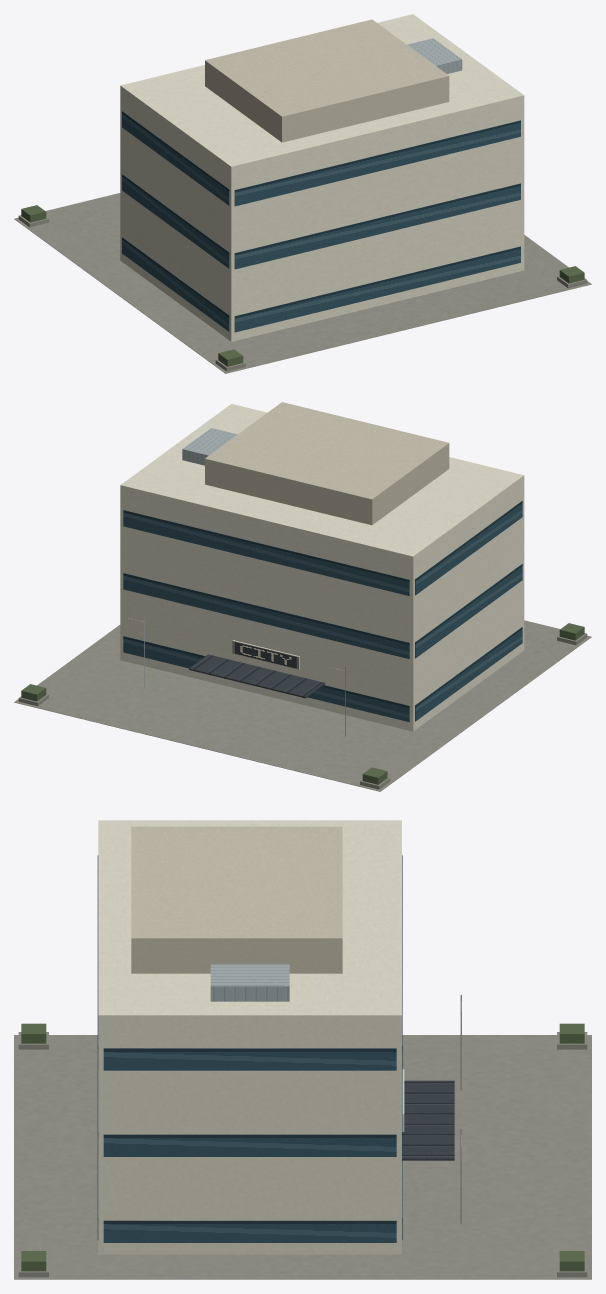
The model's file is city_hall_001.lod1.obj.
The picture shows the model from 3 angles, top to bottom: view 1: azimuth 30°, elevation 25°; view 2: azimuth 150°, elevation 25°; view 3: azimuth 270°, elevation 25°; orthographic projection. The views are drawn at different scales.
Parts seen in each view (by area): view 1: city_hall_001.lod1; view 2: city_hall_001.lod1; view 3: city_hall_001.lod1.
Part boxes in pixels (<box>): city_hall_001.lod1: <box>14,14,591,373</box>; city_hall_001.lod1: <box>14,402,591,791</box>; city_hall_001.lod1: <box>14,820,591,1279</box>.
Size of the model in its own units: 43.8 by 23 by 43.8.
Materials: 1 (1 with a texture image).
